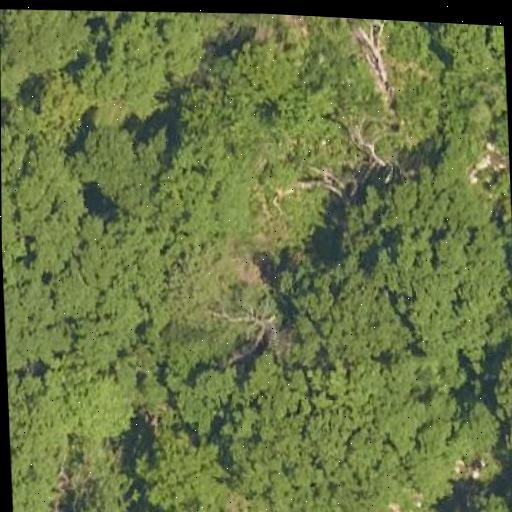tree-top: (250, 350, 438, 512), (358, 187, 509, 358), (184, 40, 350, 182), (63, 225, 176, 376), (276, 254, 407, 372), (1, 97, 83, 281), (67, 109, 160, 210), (128, 417, 226, 512), (81, 15, 168, 118), (7, 376, 72, 512), (0, 6, 90, 90), (163, 354, 246, 439), (2, 268, 67, 374), (435, 115, 493, 191), (433, 22, 505, 81), (52, 473, 154, 512), (32, 75, 88, 144), (485, 346, 512, 477), (442, 487, 512, 512), (153, 505, 248, 512)
